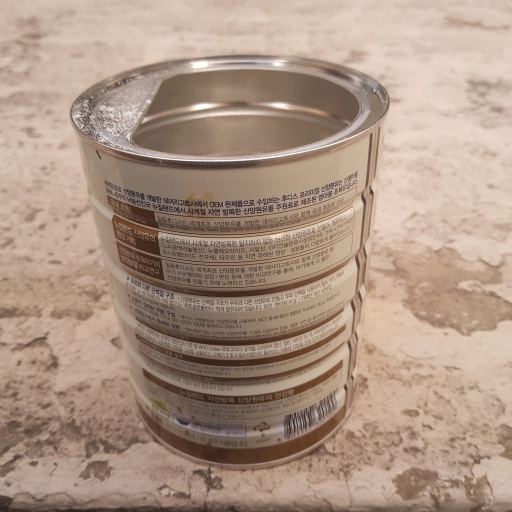Metal_1: (71, 53, 391, 473)
